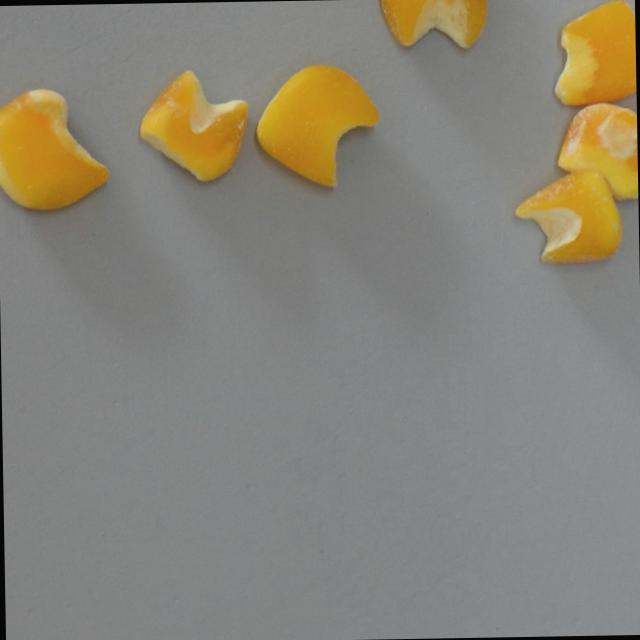no_canjicado: (254, 61, 380, 190), (0, 85, 109, 212), (140, 68, 250, 182), (554, 0, 636, 106), (380, 0, 489, 51)
pelicula: (512, 169, 623, 265), (558, 101, 638, 201)
